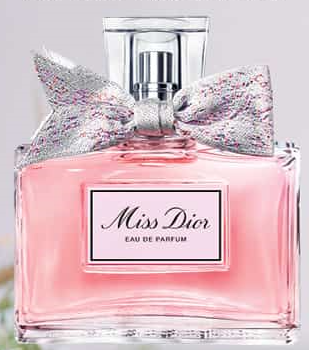dior_miss_dior: (11, 11, 303, 345)
